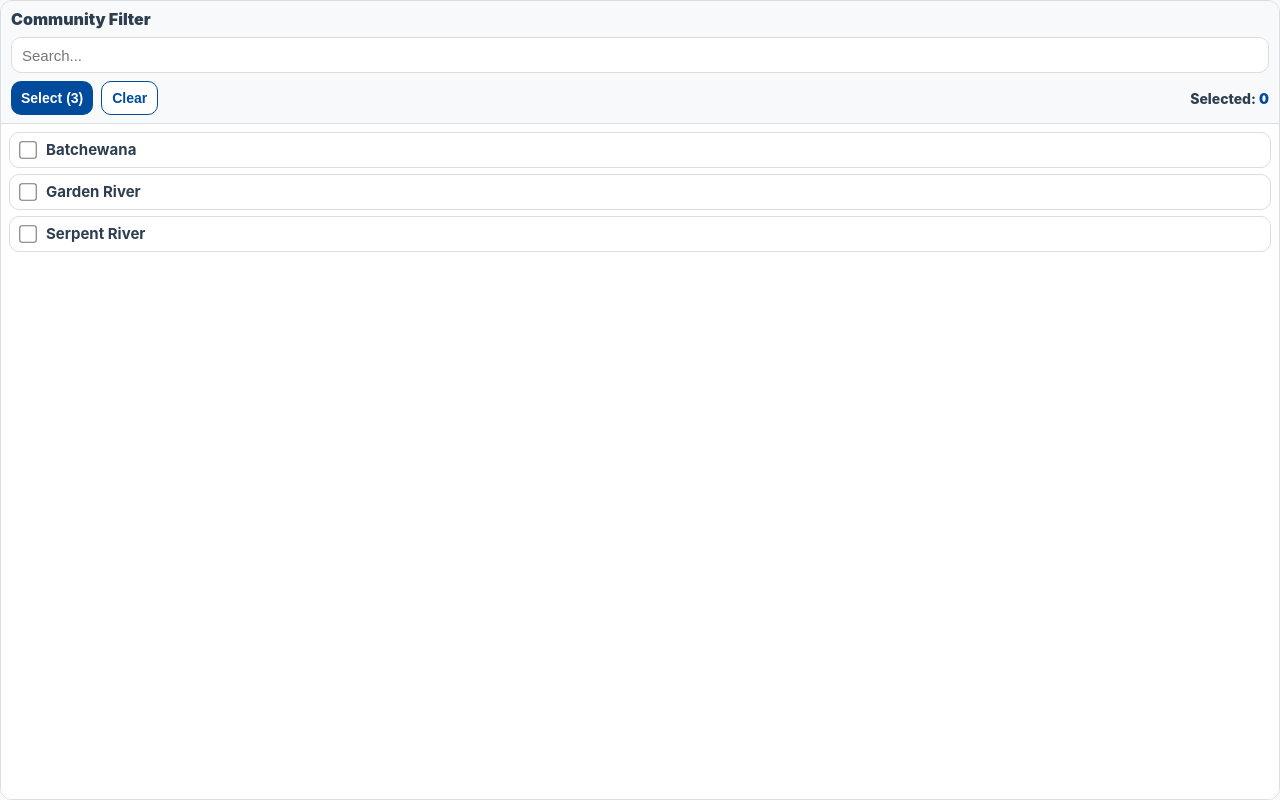
Test: CommunityFilter › search filters case-insensitively and trims spaces
The width and height of the screenshot is (1280, 800).
Type "   bat  " into the field named "Search communities" at (640, 55), box [11,37,1269,73]
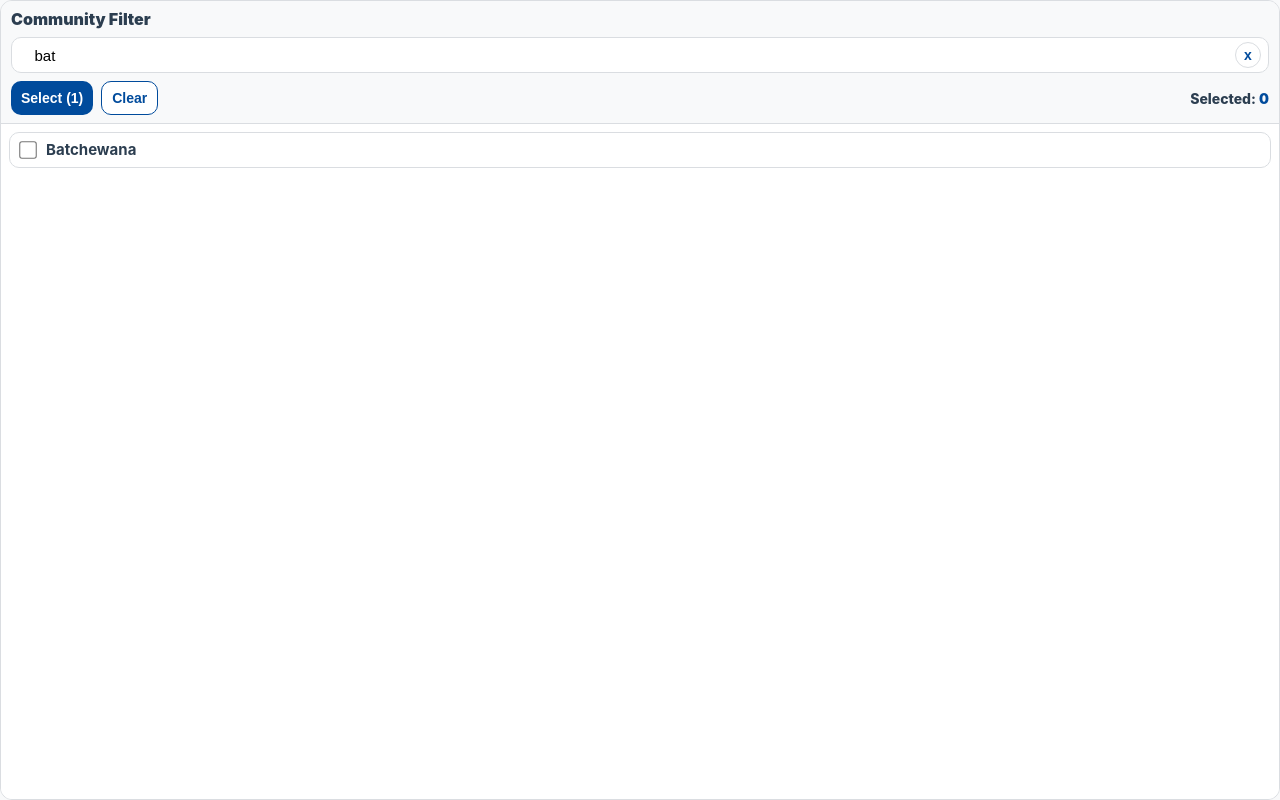
Expected: the option "Batchewana" is shown, [9,132,1271,168]
Result: the option "Garden River" is gone
Result: the option "Serpent River" is gone
